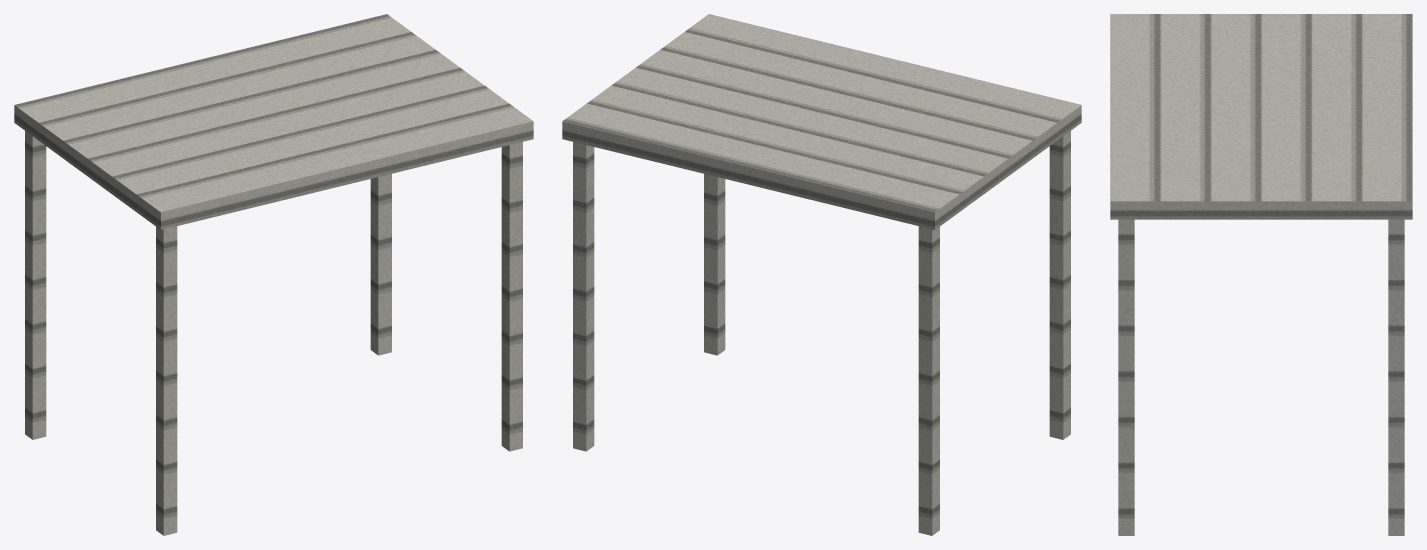
Rendered from drafting_table.glb.
The picture shows the model from 3 angles, left to right: view 1: azimuth 30°, elevation 25°; view 2: azimuth 150°, elevation 25°; view 3: azimuth 270°, elevation 25°; orthographic projection. The views are drawn at different scales.
Visible parts, largest first — view 1: drafting_table-col; view 2: drafting_table-col; view 3: drafting_table-col.
Part boxes in pixels (bbox=[...]): drafting_table-col: bbox=[14, 14, 533, 535]; drafting_table-col: bbox=[562, 14, 1081, 535]; drafting_table-col: bbox=[1110, 14, 1412, 535].
Size of the model in its own units: 1.1 by 0.925 by 0.75.
1 material, 1 textured.
